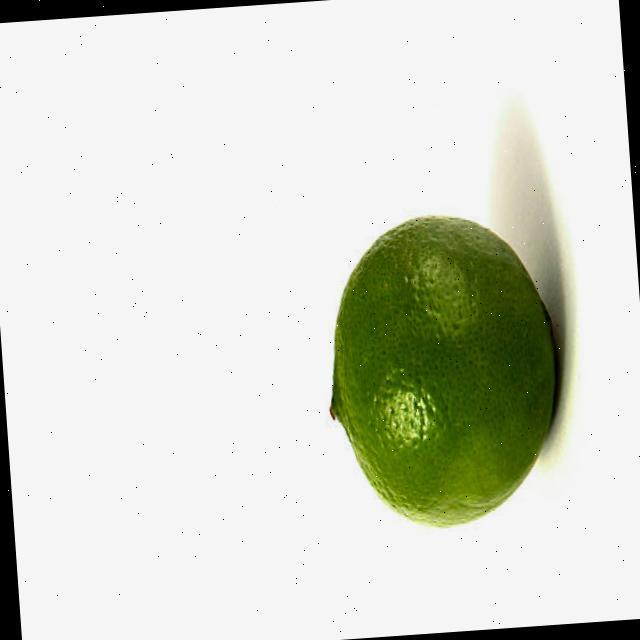Unripe: (315, 202, 569, 532)
